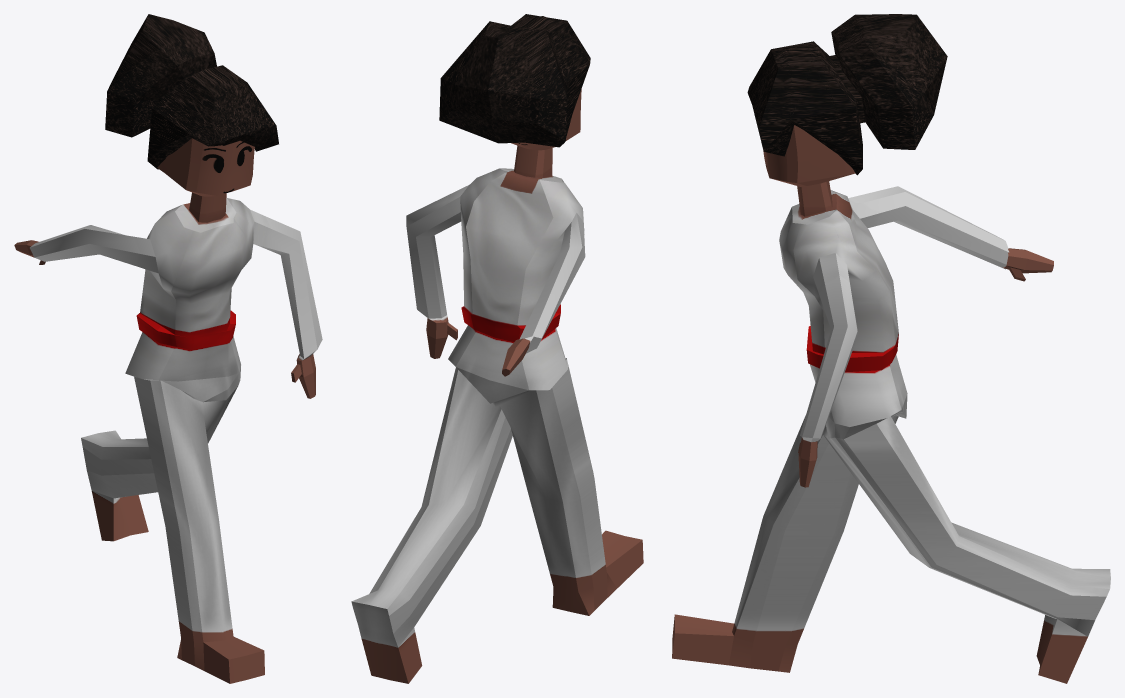
The model's file is Terri_Text.fbx.
3 views of the same model, side by side, from view 1: azimuth 30°, elevation 25°; view 2: azimuth 150°, elevation 25°; view 3: azimuth 270°, elevation 25° (orthographic). The views are drawn at different scales.
Parts seen in each view (by area): view 1: polySurface1, polySurface2; view 2: polySurface1, polySurface2, polySurface3; view 3: polySurface1, polySurface2, polySurface3.
Boxes of the visible parts, left/top/right/bottom form: polySurface1: left=30, top=138, right=322, bottom=683; polySurface2: left=105, top=14, right=278, bottom=169; polySurface1: left=351, top=89, right=643, bottom=683; polySurface2: left=439, top=14, right=590, bottom=147; polySurface3: left=502, top=338, right=530, bottom=376; polySurface1: left=672, top=125, right=1110, bottom=683; polySurface2: left=747, top=14, right=947, bottom=175; polySurface3: left=1003, top=248, right=1053, bottom=281.
Bounding box in the file's own units: 44.07 × 121 × 73.29.
